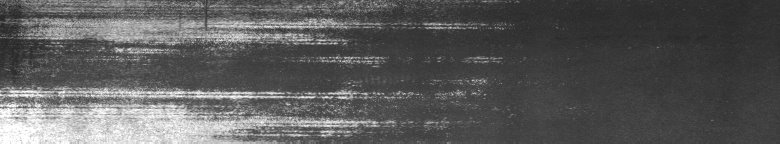kb: (4, 4, 515, 136)
